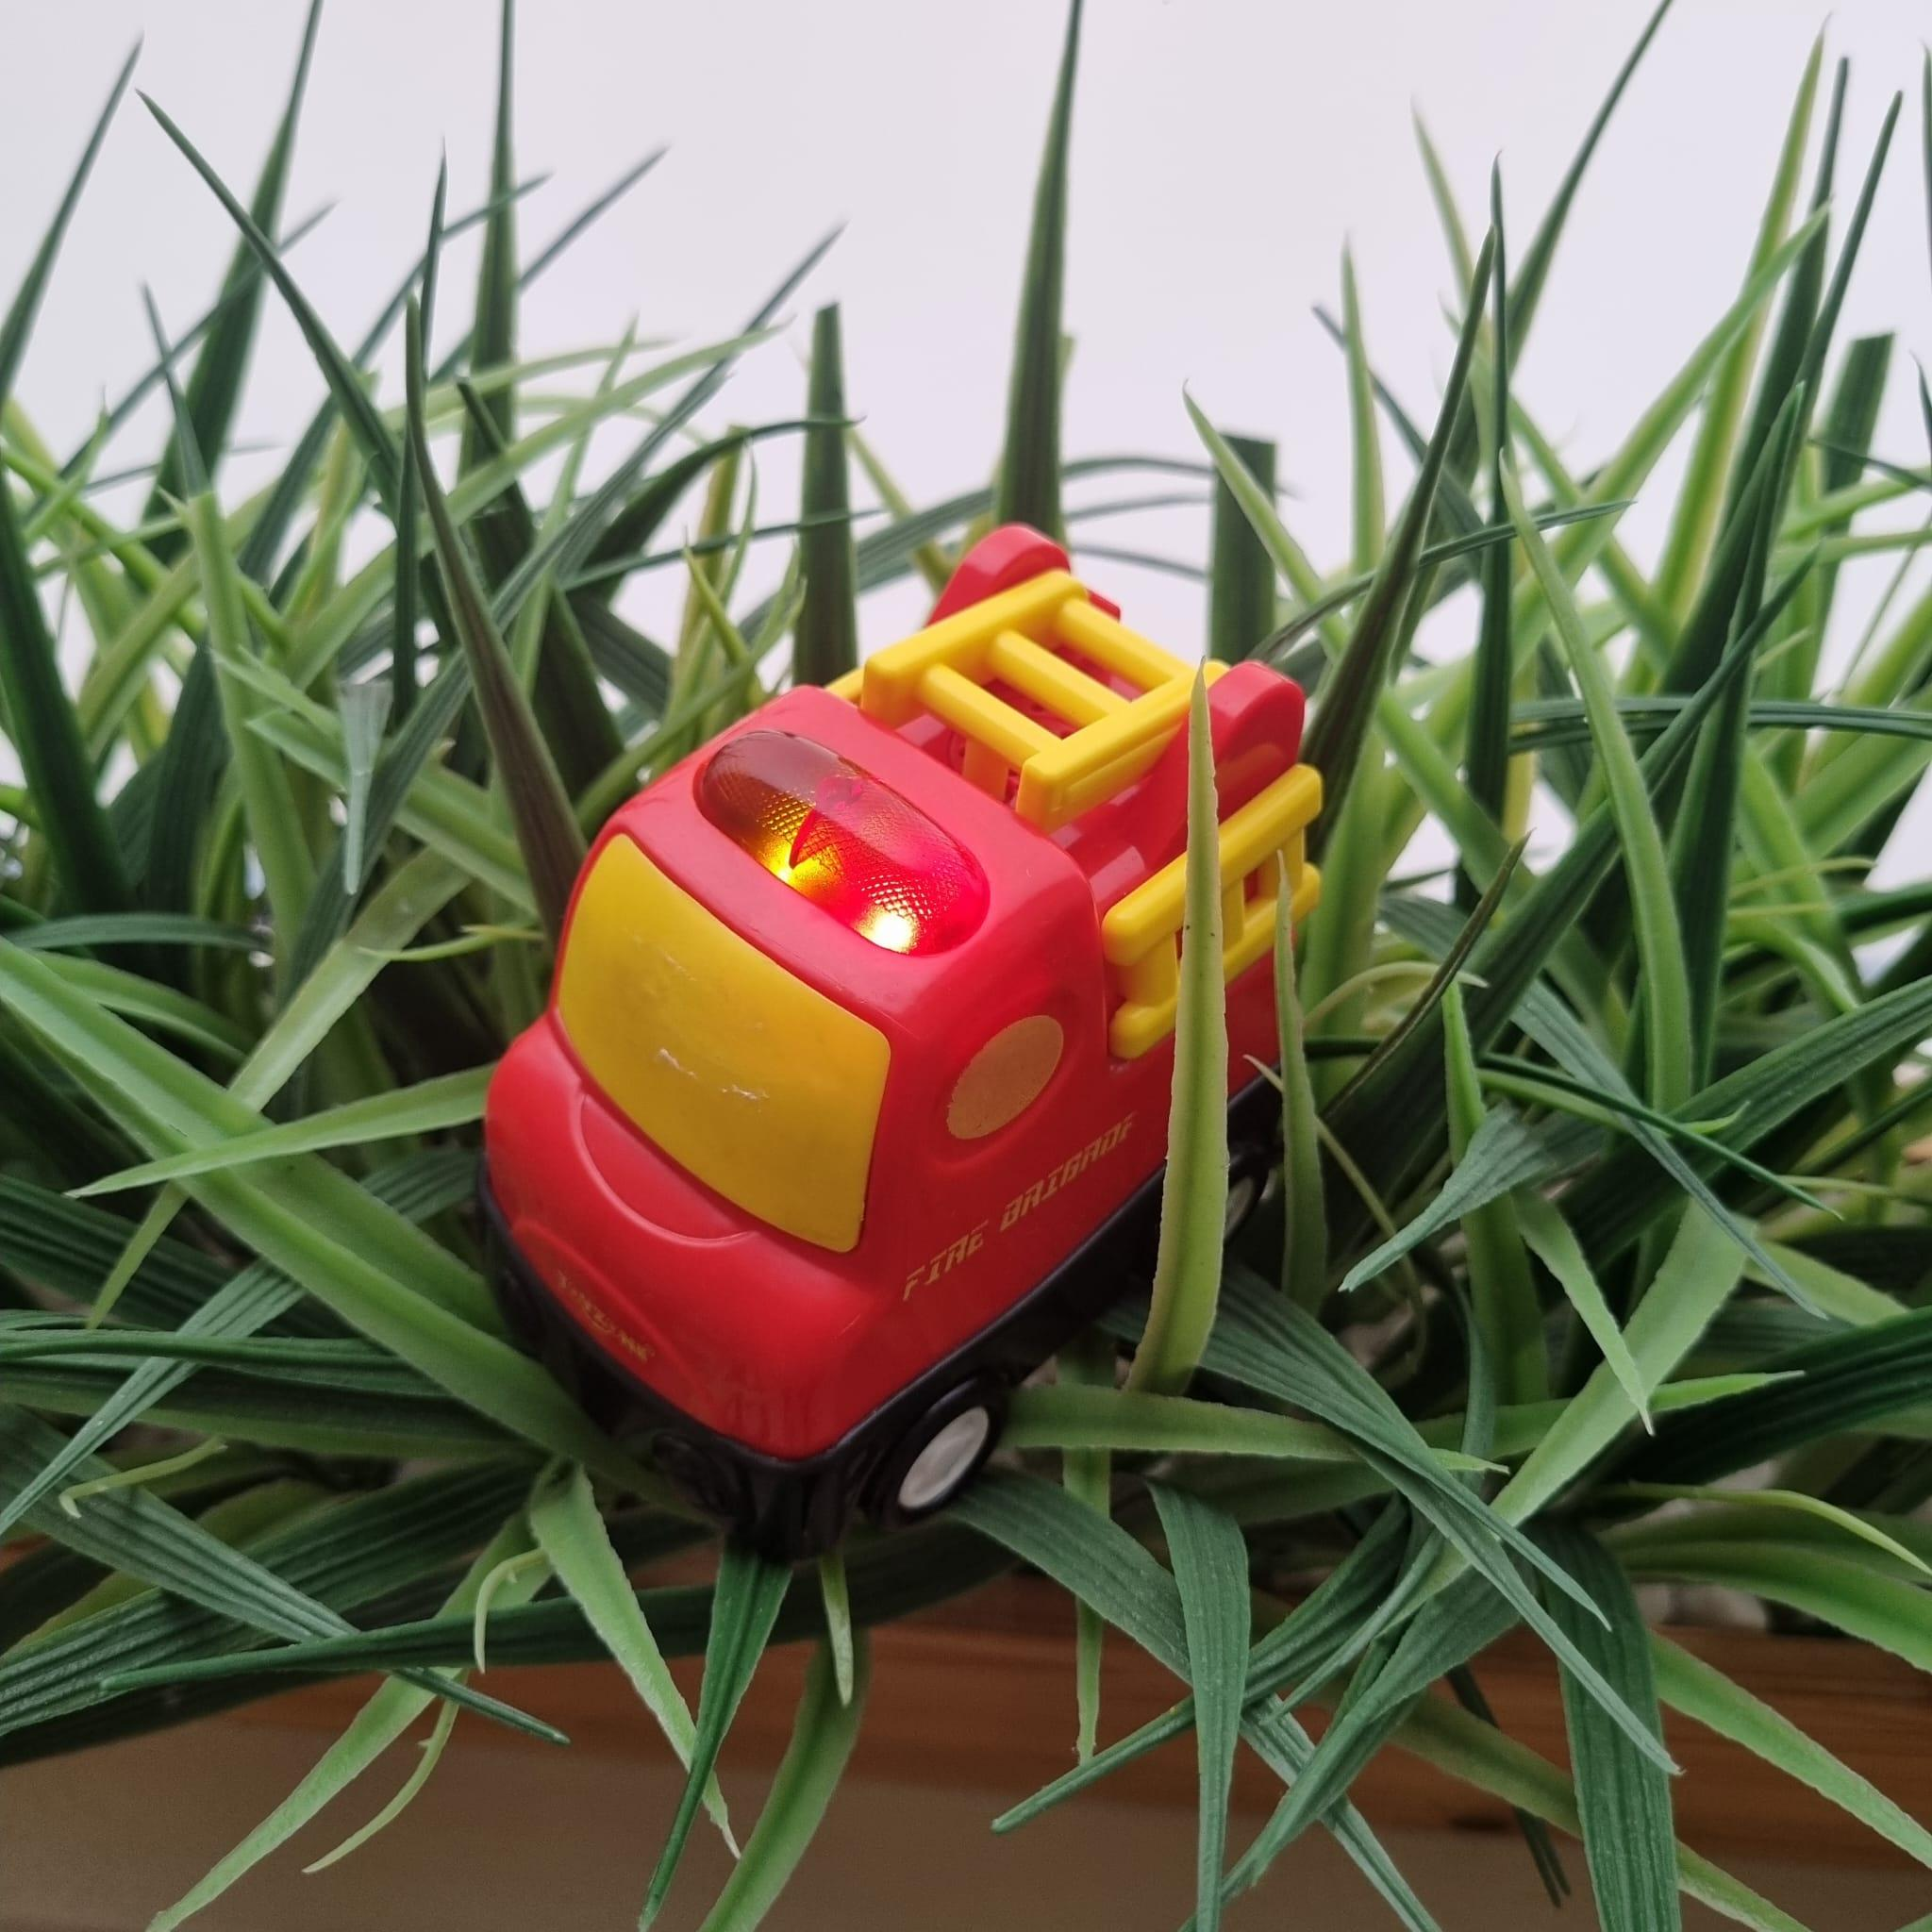firetruck_on: (472, 529, 1316, 1553)
